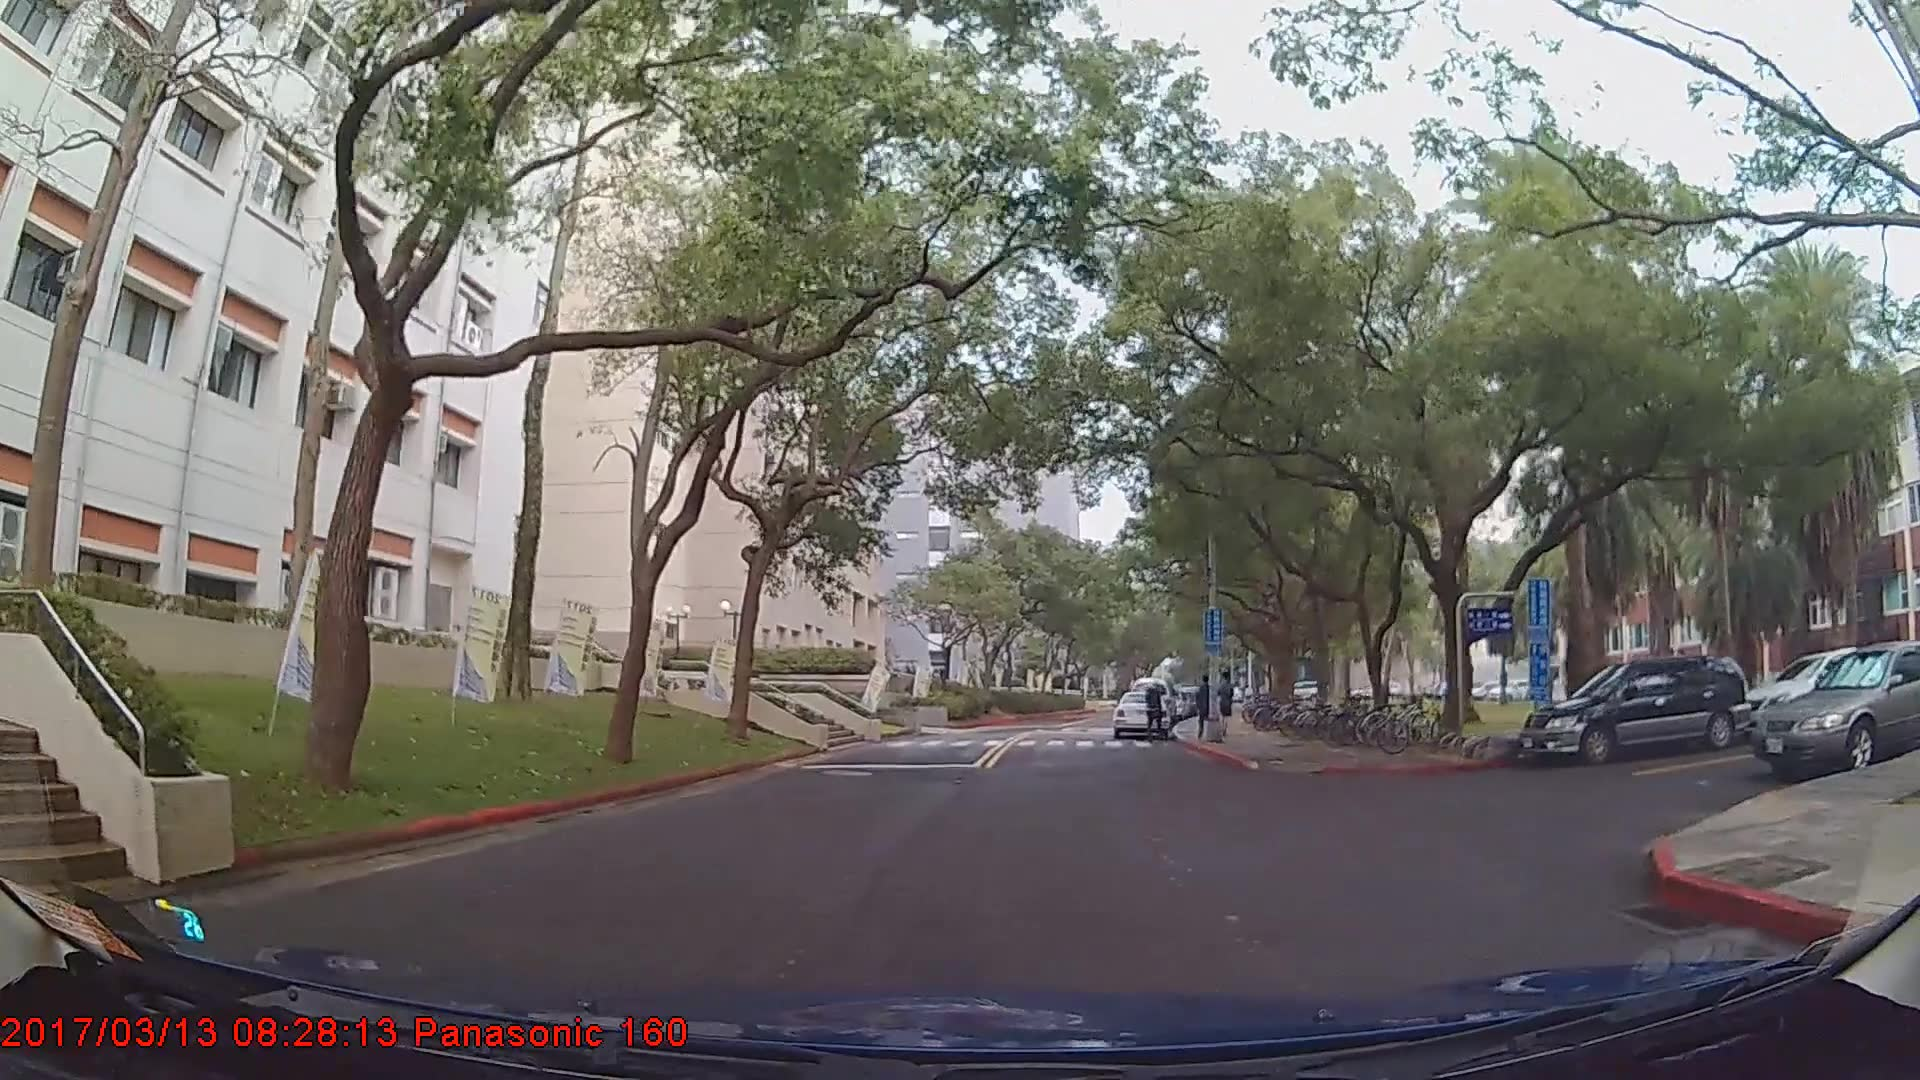pedestrian: (1196, 676, 1218, 738), (1145, 680, 1166, 745)
vehicle: (1518, 652, 1747, 764), (1749, 640, 1920, 782), (1110, 688, 1171, 736)
